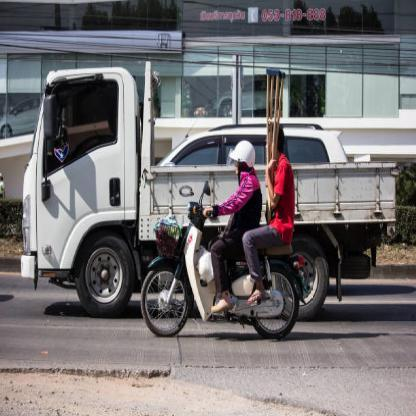Motorcycle: (143, 191, 301, 348)
